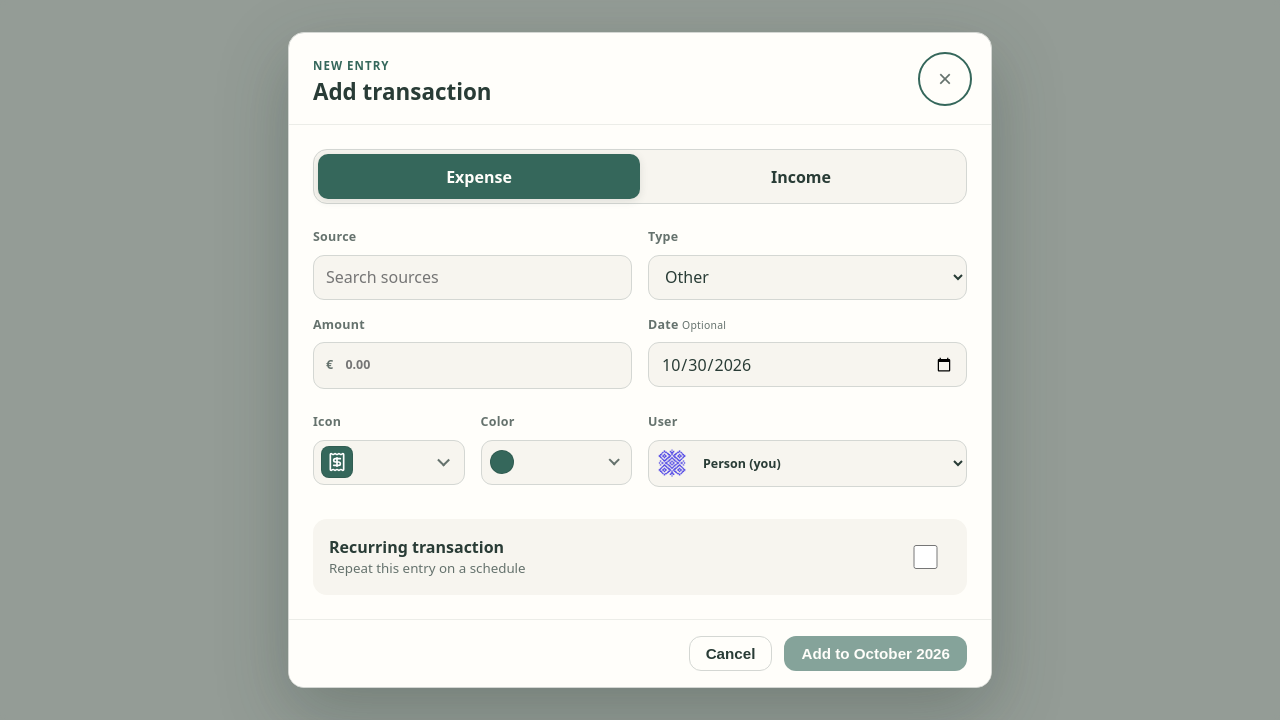
Test: transaction form + query + HTTP client › renders icon and color pickers outside the scrolling dialog
Click the heading named "Icon: Receipt": click(389, 462) [313,440,464,485]
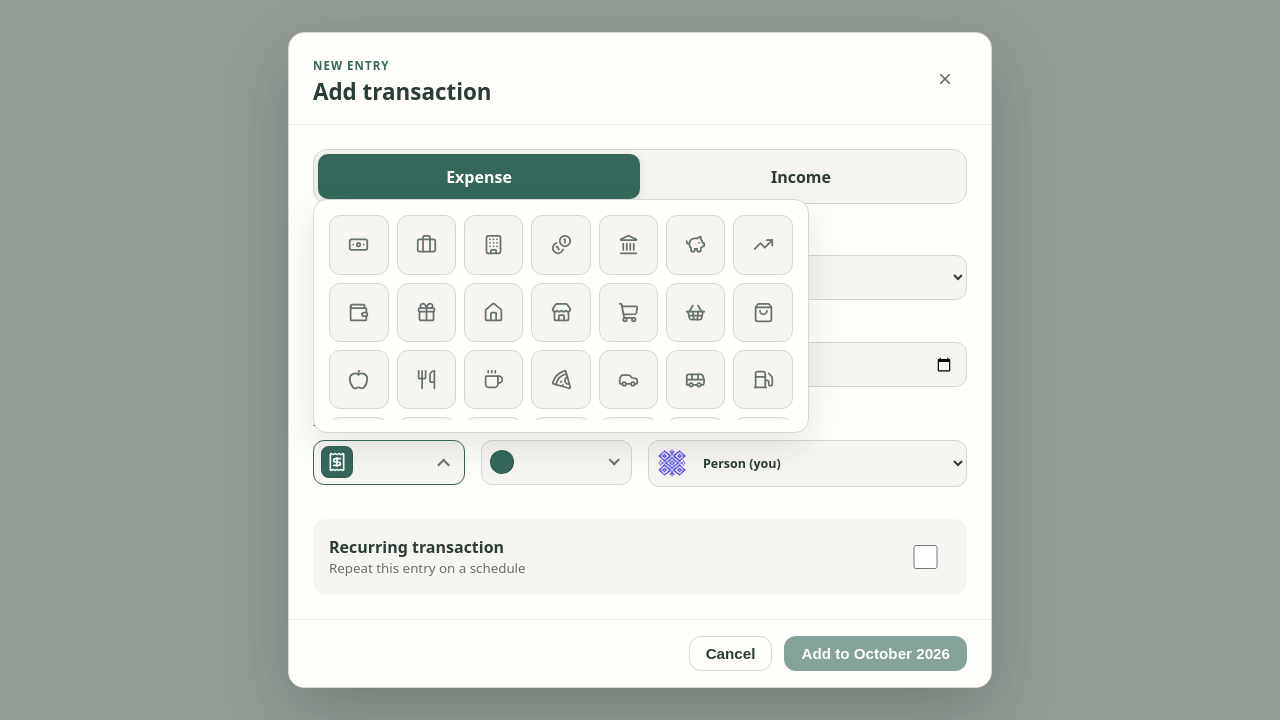
Click the radio button named "House": click(494, 312) [464,282,523,342]
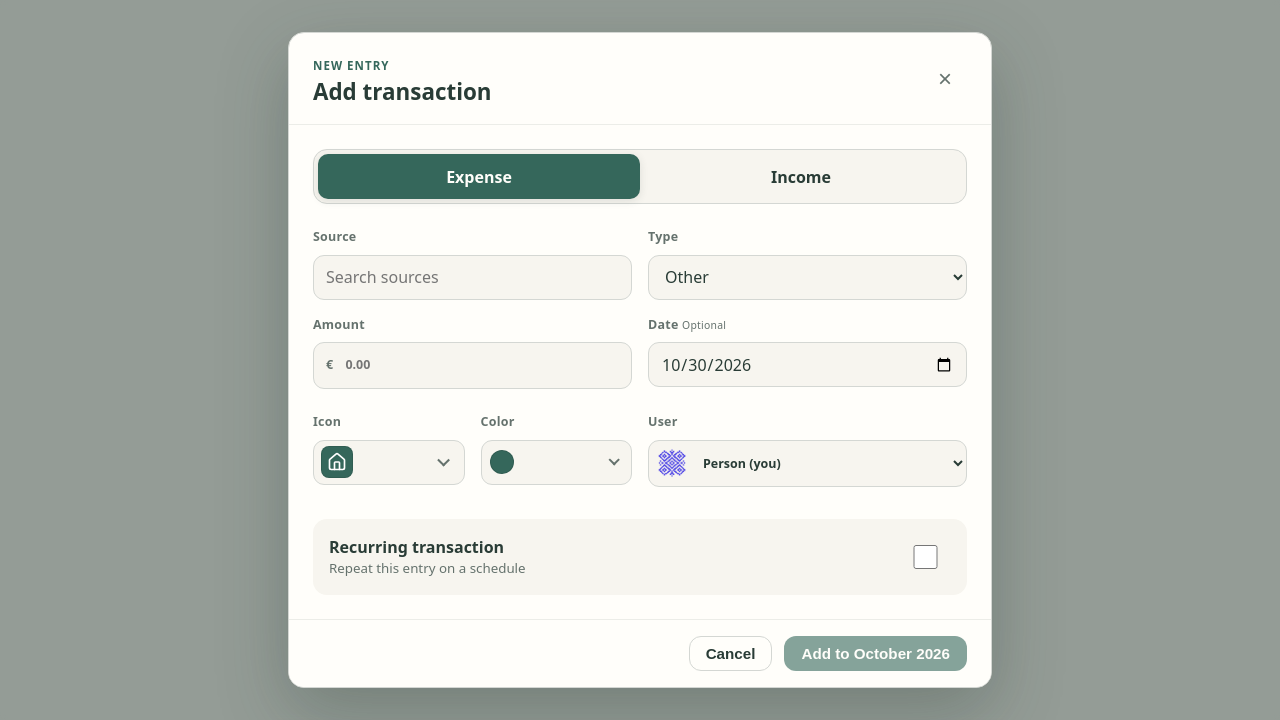
Expected: the heading named "Icon: House" is shown, [313,440,464,485]
Click the heading named "Color: #35675B": click(556, 462) [480,440,632,485]
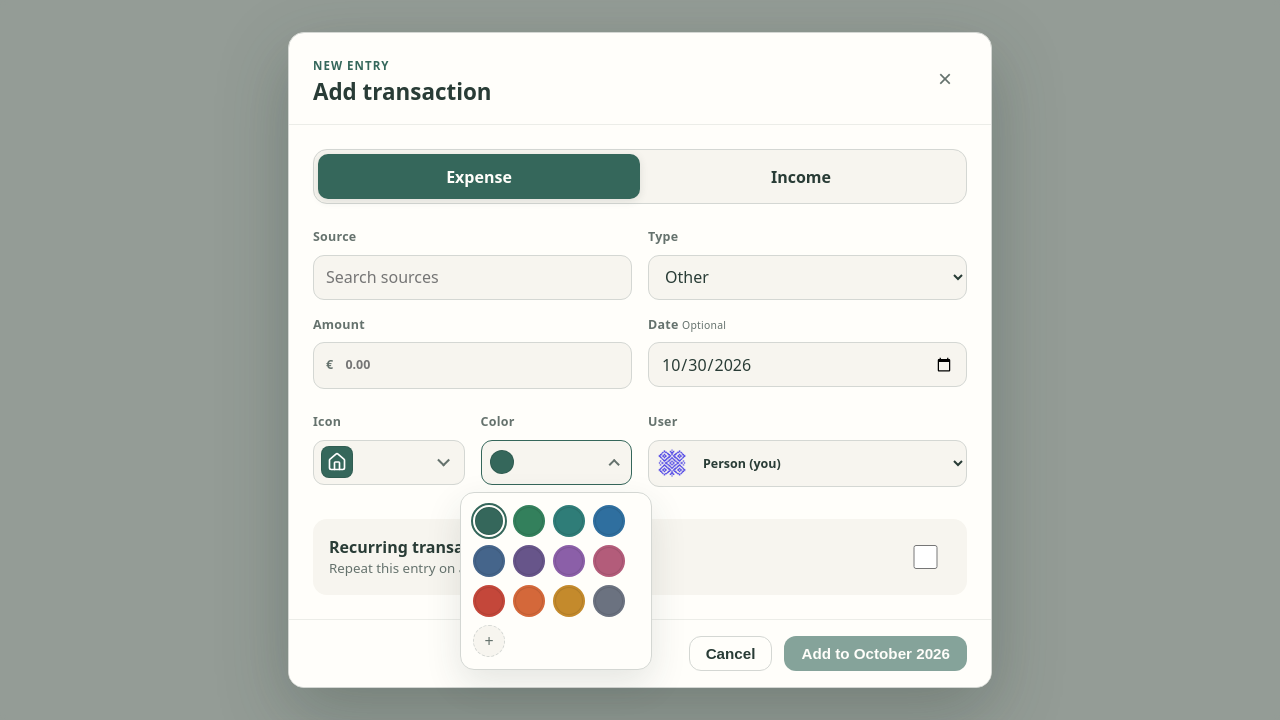
Click the radio button named "#33805C": click(529, 521) [513,505,545,537]
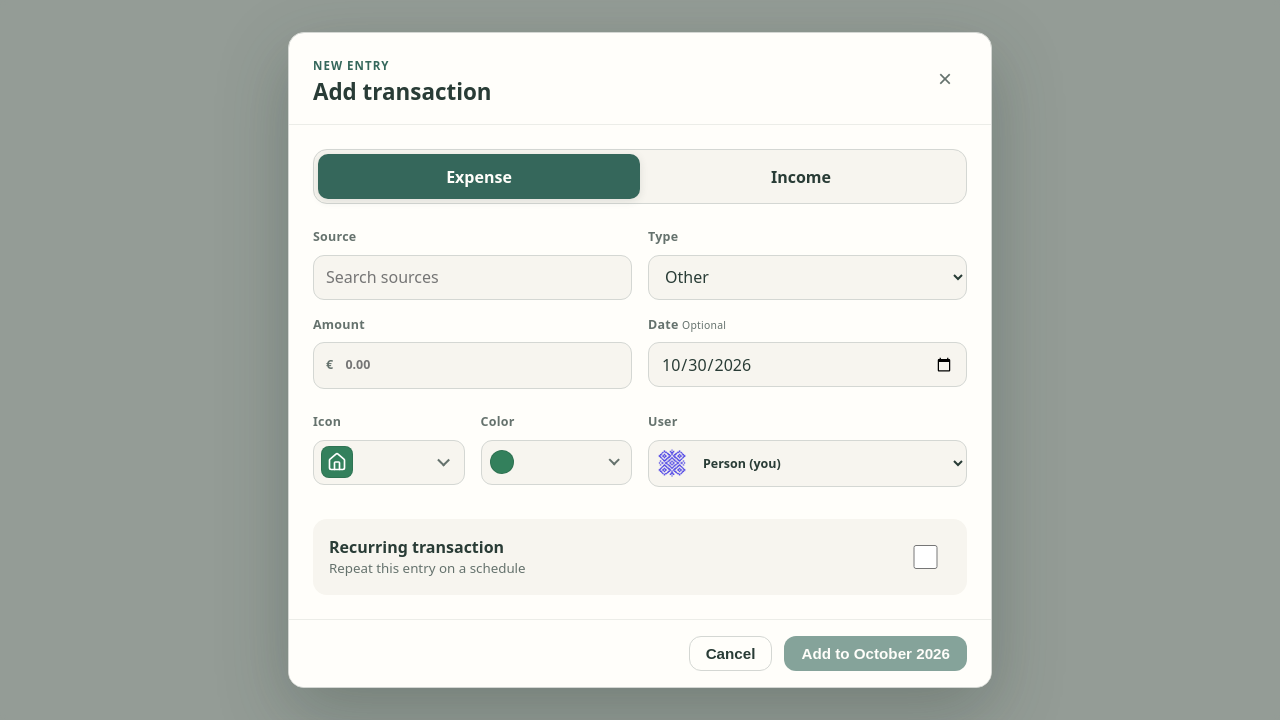
Expected: the radio button labelled "#33805C" is not shown
Expected: the heading named "Color: #33805C" is shown, [480,440,632,485]
